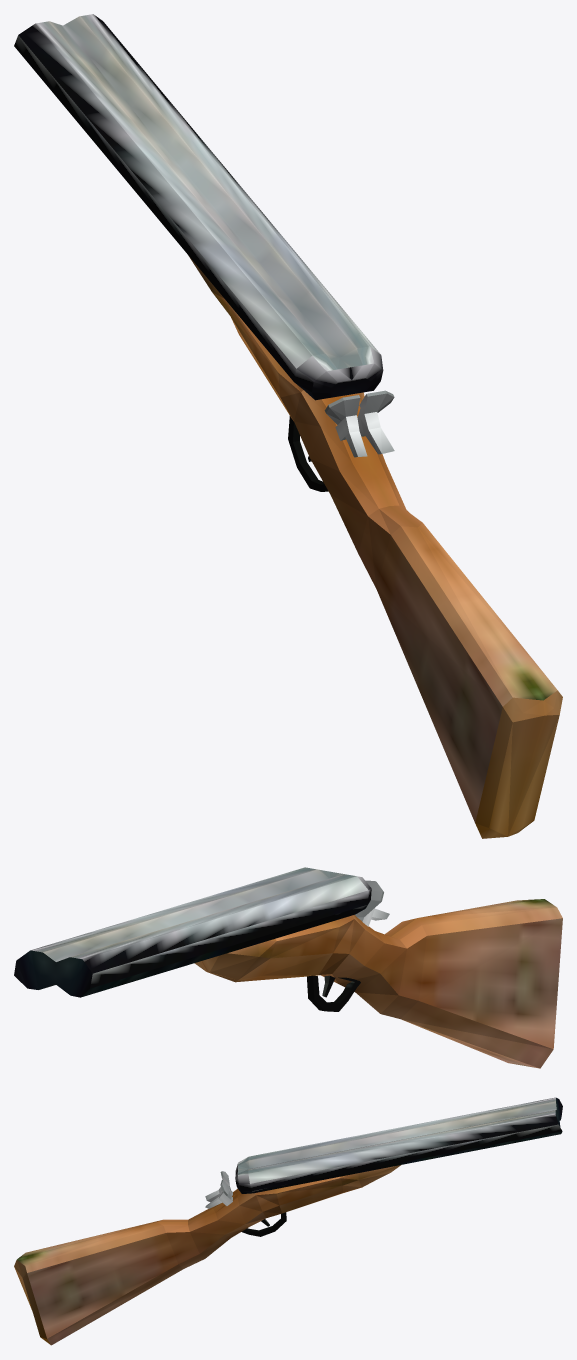
Rendered from shoot0006.obj.
3 views of the same model, one above another, from view 1: azimuth 30°, elevation 25°; view 2: azimuth 150°, elevation 25°; view 3: azimuth 270°, elevation 25° (orthographic). The views are drawn at different scales.
Visible parts, largest first — view 1: Cube, Cube.001, Cube.003; view 2: Cube, Cube.001, Cube.002, Cube.003; view 3: Cube, Cube.001, Cube.003, Cube.002.
Part boxes in pixels (x1,y1,x2,y2): Cube: (188,255,562,838); Cube.001: (14,14,383,400); Cube.003: (324,390,394,457); Cube: (194,899,562,1068); Cube.001: (14,867,371,997); Cube.002: (307,975,360,1011); Cube.003: (355,880,389,926); Cube: (14,1165,400,1345); Cube.001: (235,1097,562,1193); Cube.003: (205,1171,232,1208); Cube.002: (241,1212,286,1236).
Bounding box in the file's own units: 0.265 × 1.07 × 2.17.
Materials: 1 (1 with a texture image).
